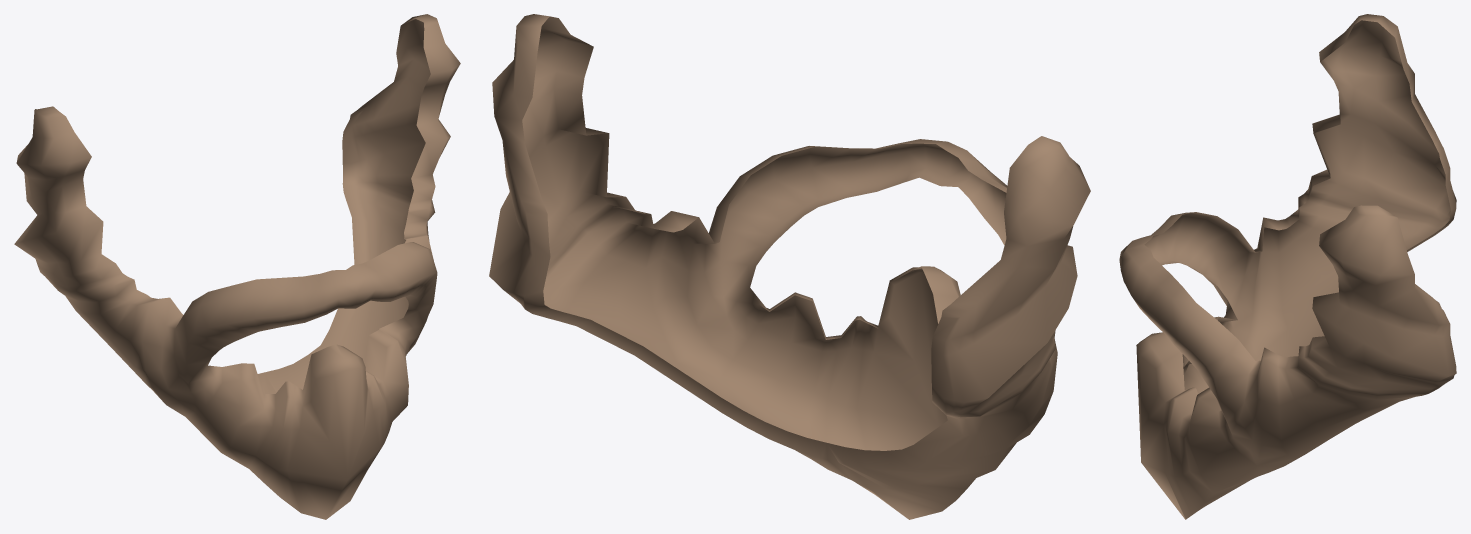
File: quaternius_hair_beard.glb
The picture shows the model from 3 angles, left to right: view 1: azimuth 30°, elevation 25°; view 2: azimuth 150°, elevation 25°; view 3: azimuth 270°, elevation 25°; orthographic projection. The views are drawn at different scales.
Visible parts, largest first — view 1: Hair_Beard; view 2: Hair_Beard; view 3: Hair_Beard.
Boxes of the visible parts, x1,y1,x2,y2 form: Hair_Beard: [14, 14, 460, 519]; Hair_Beard: [489, 14, 1090, 519]; Hair_Beard: [1119, 14, 1456, 519].
Bounding box in the file's own units: 0.1615 × 0.1398 × 0.1049.
